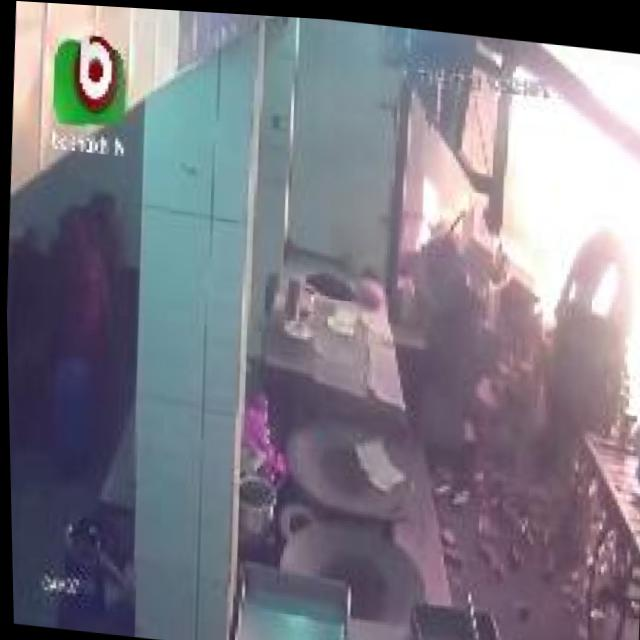fire: (489, 35, 640, 412)
